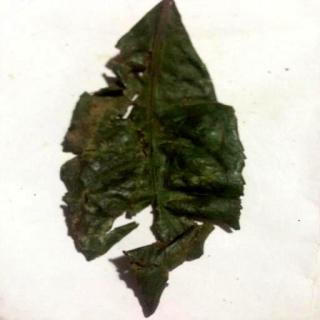Red Leaf Spot: (62, 2, 246, 320)
